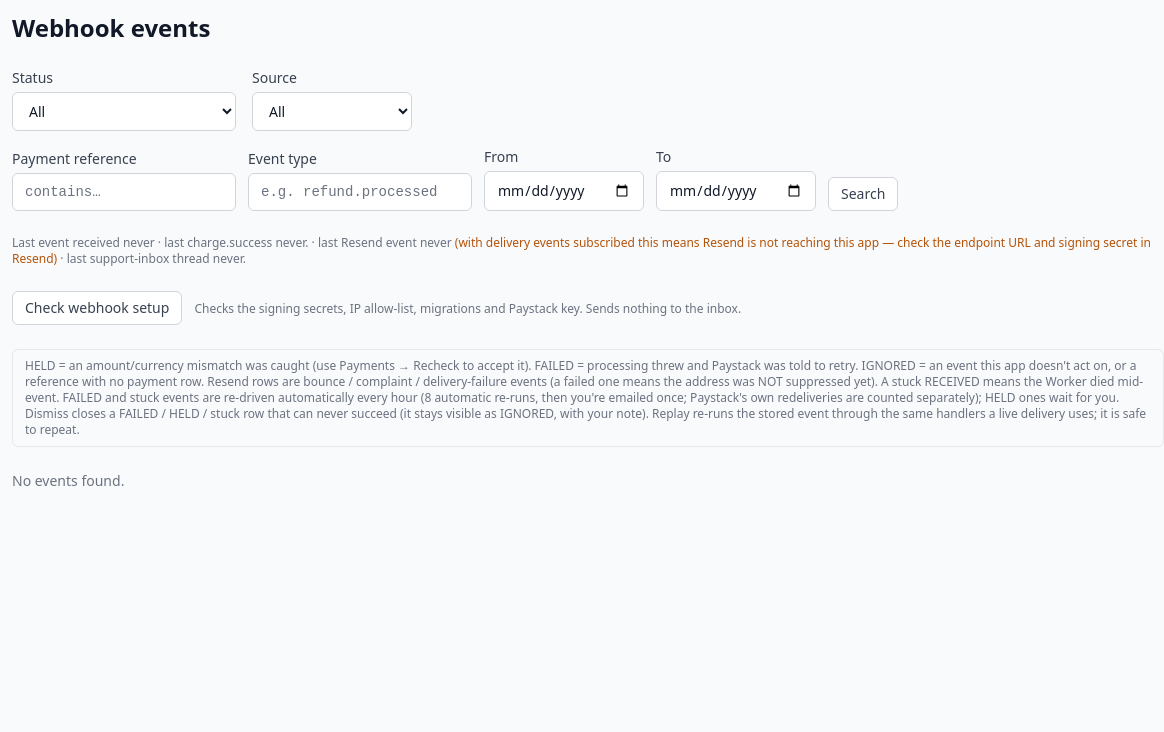
Test: AdminWebhooks — setup check (round 18 G2) › shows an error when the check cannot be run
Click the button "Check webhook setup".
click(97, 308)  # box [12,291,182,325]
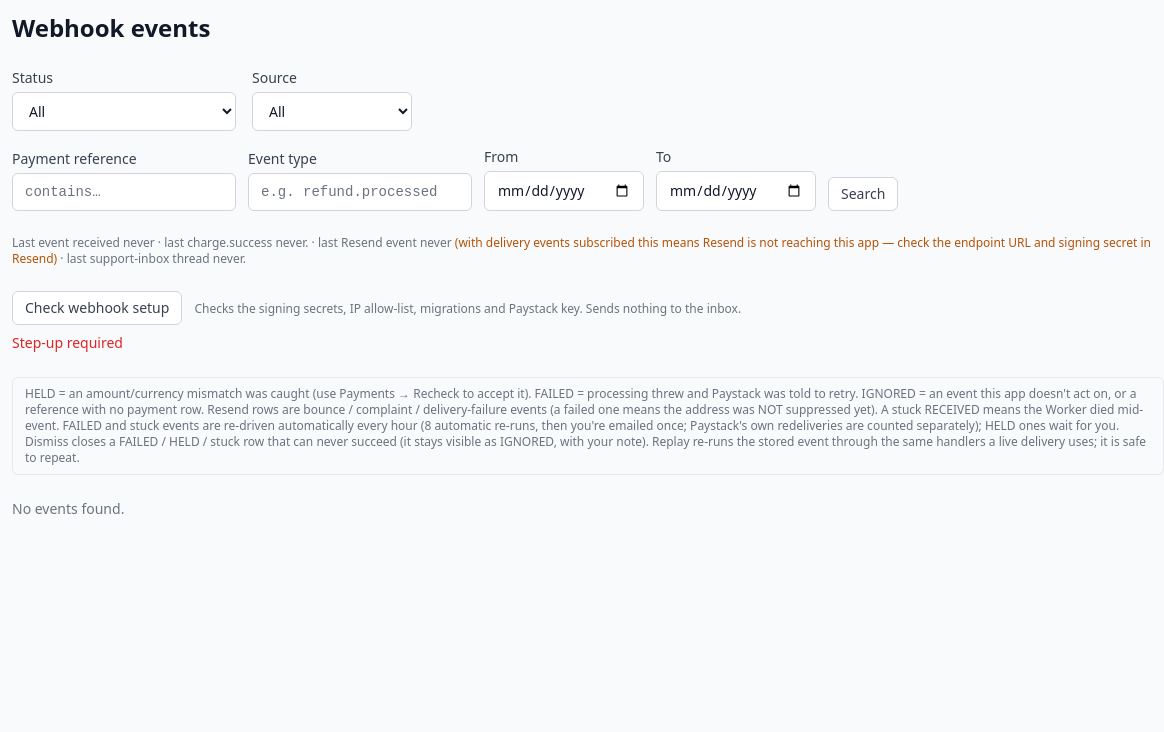
Now the message "Step-up required" is shown, box [12,333,123,352]
